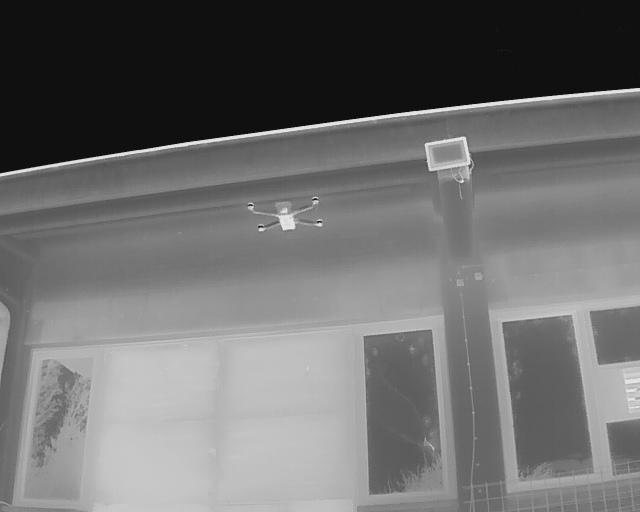drone: (234, 188, 336, 242)
